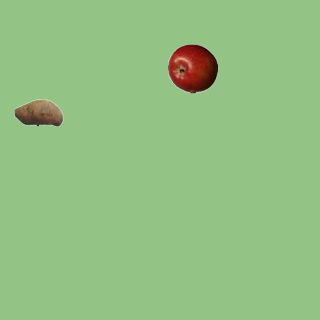Apple Braeburn: (167, 43, 217, 93)
Potato Sweet: (13, 87, 63, 137)
